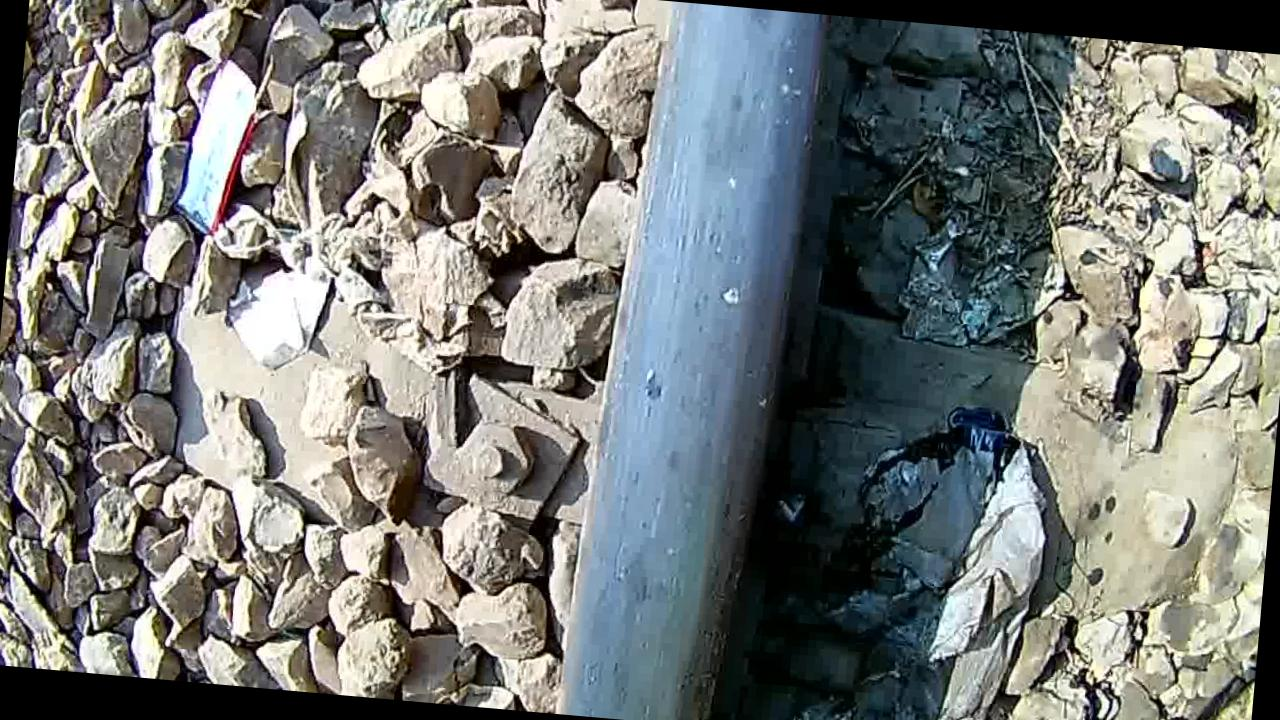bolt_missing: (592, 3, 804, 720)
